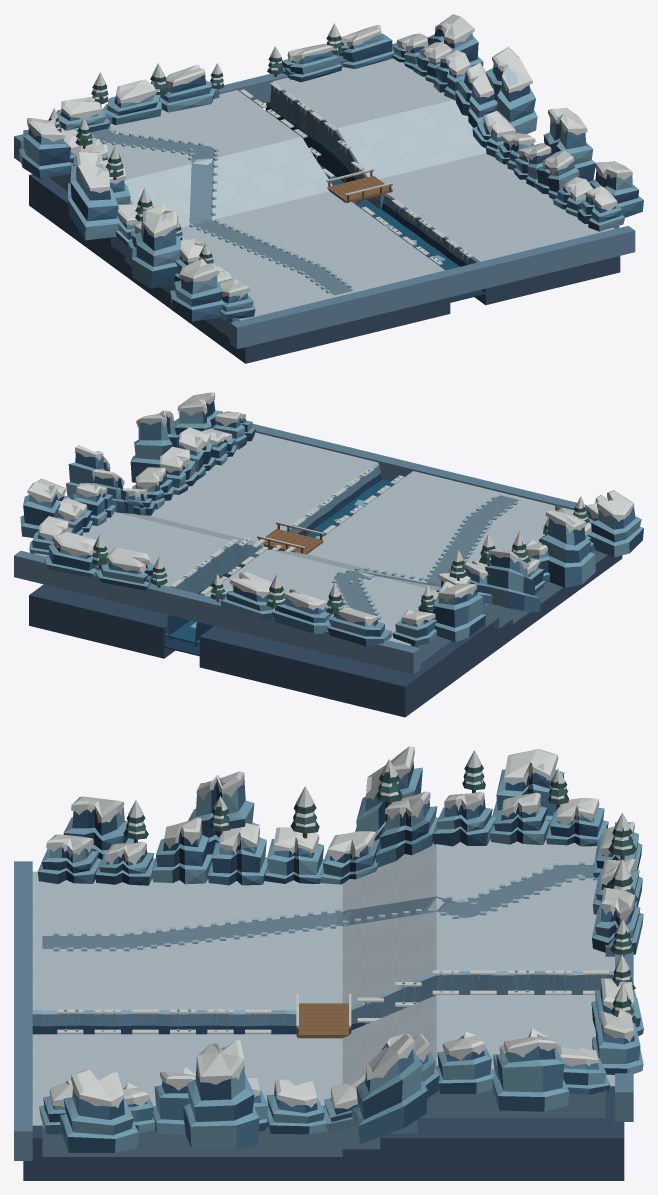
The model's file is frontier-frost-forest.glb.
3 views of the same model, one above another, from view 1: azimuth 30°, elevation 25°; view 2: azimuth 150°, elevation 25°; view 3: azimuth 270°, elevation 25° (orthographic). The views are drawn at different scales.
Visible parts, largest first — view 1: frontier-frost-forest; view 2: frontier-frost-forest; view 3: frontier-frost-forest.
Part boxes in pixels (bbox=[...]): frontier-frost-forest: bbox=[14, 14, 643, 363]; frontier-frost-forest: bbox=[14, 392, 643, 717]; frontier-frost-forest: bbox=[14, 746, 643, 1180].
Bounding box in the file's own units: 77.93 × 20.86 × 67.09.
